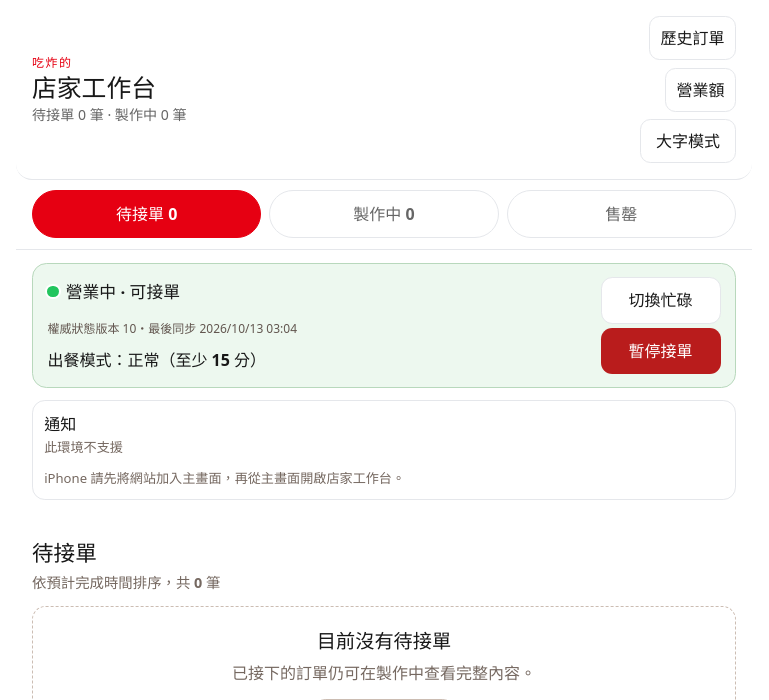
Test: Merchant Store safety DOM › accepts an existing ambiguous Pause operation only after the Store is authoritatively paused
Check: the element with test id "store-control" is shown, box [32, 263, 736, 388]
Click the button "暫停接單": coordinates (661, 351) [601, 328, 721, 374]
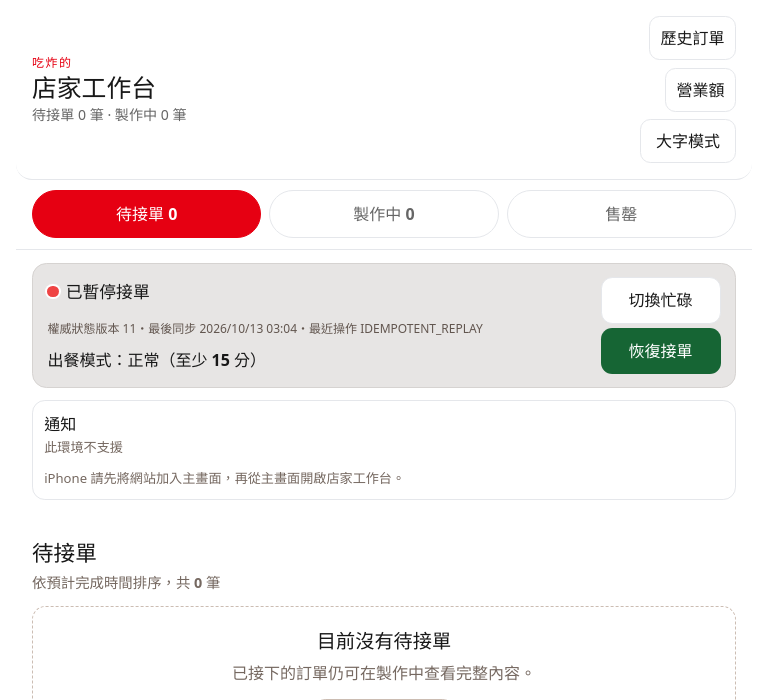
Check: the button with class "resume-store-button" is enabled, box [601, 328, 721, 374]
